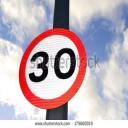speed_limit_30: (19, 29, 87, 109)
